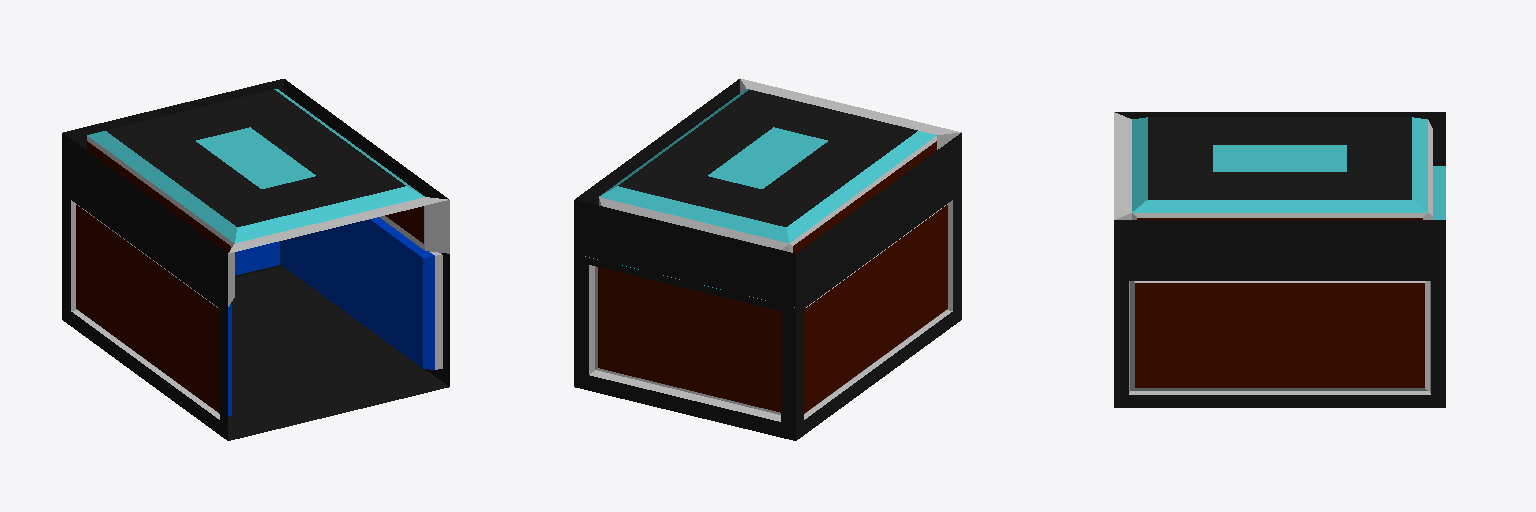
Rendered from armory.obj.
3 views of the same model, side by side, from view 1: azimuth 30°, elevation 25°; view 2: azimuth 150°, elevation 25°; view 3: azimuth 270°, elevation 25° (orthographic).
Visible parts, largest first — view 1: Cube_Cube.003; view 2: Cube_Cube.003; view 3: Cube_Cube.003.
Part boxes in pixels (x1,y1,x2,y2): Cube_Cube.003: (62, 79, 449, 440); Cube_Cube.003: (574, 78, 961, 440); Cube_Cube.003: (1114, 112, 1445, 407).
Bounding box in the file's own units: 9.8 × 8.24 × 12.69.